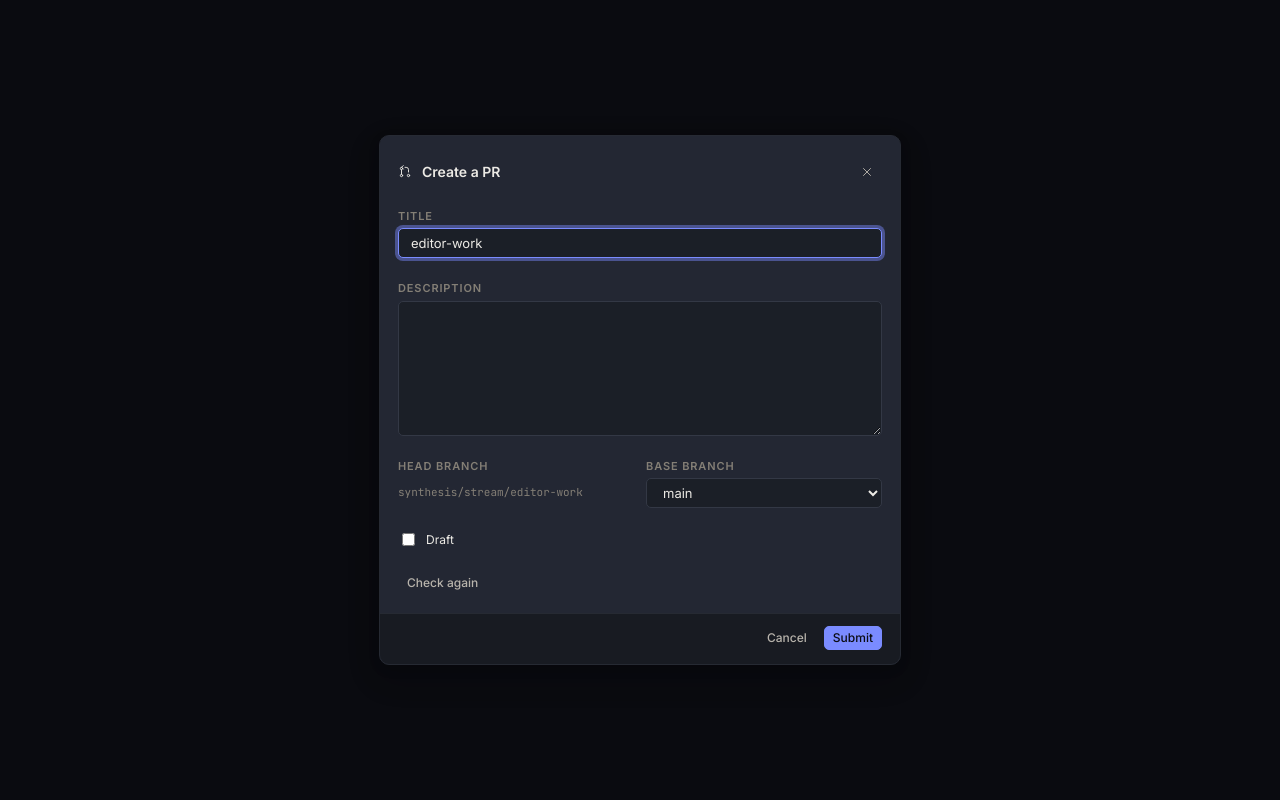
Test: failures (CPR-FR-SQEP, CPR-FR-VZUZ, CPR-FR-FGGU, CPR-FR-VZNE) › CPR-FR-SQEP, CPR-FR-VZNE: a failure shows inline, keeps the author's input and the window open
Type "my words" into the text box labelled "Description" at [640, 368], box [398, 301, 882, 436]
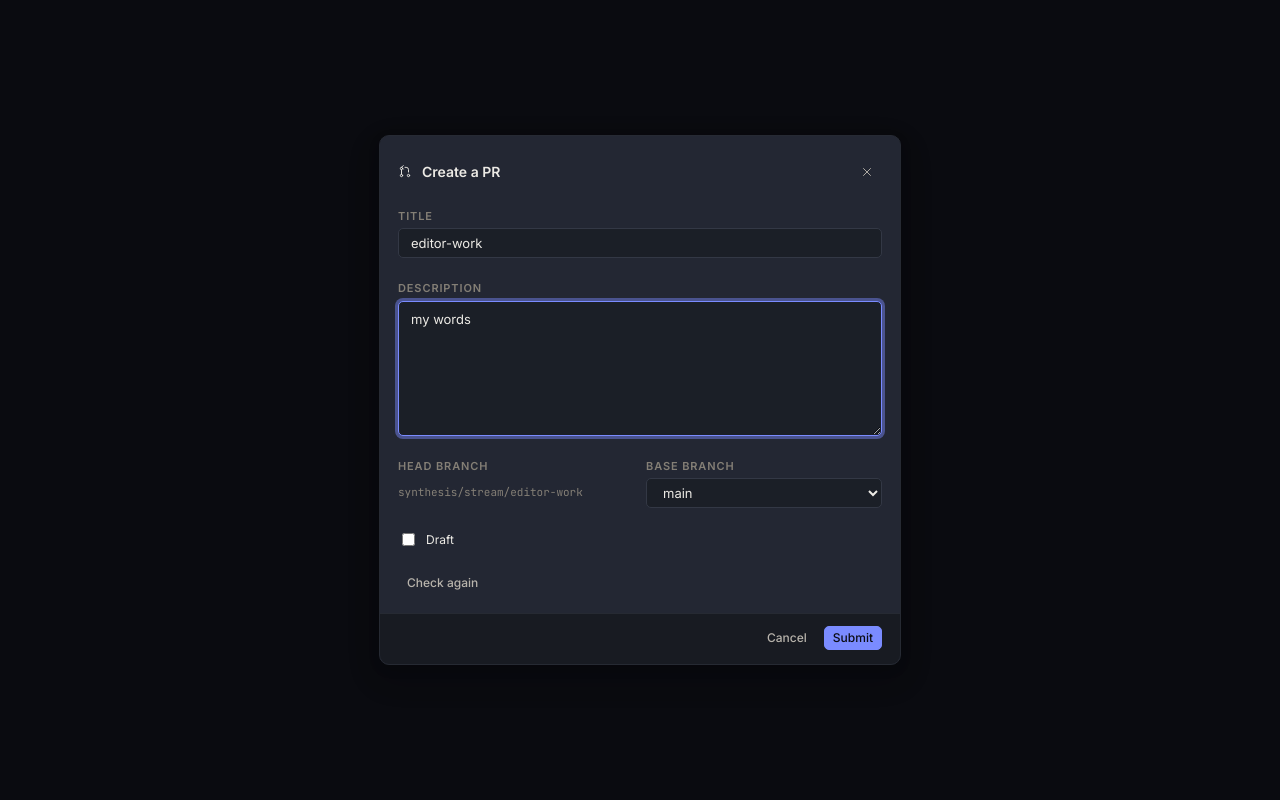
Select "develop" in the dropdown with test id "create-pr-base" at [764, 493], box [646, 478, 882, 508]
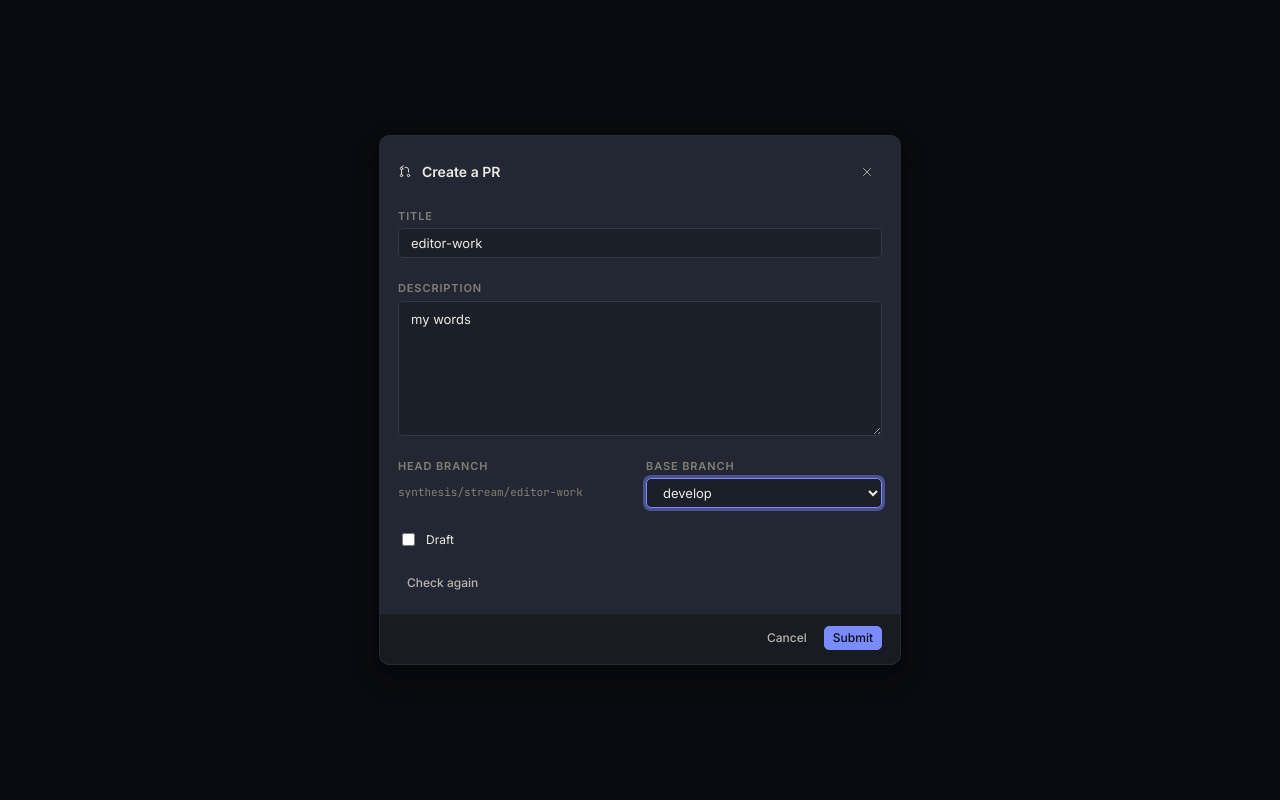
Click the checkbox labelled "Draft" at [408, 540], box [402, 533, 415, 546]
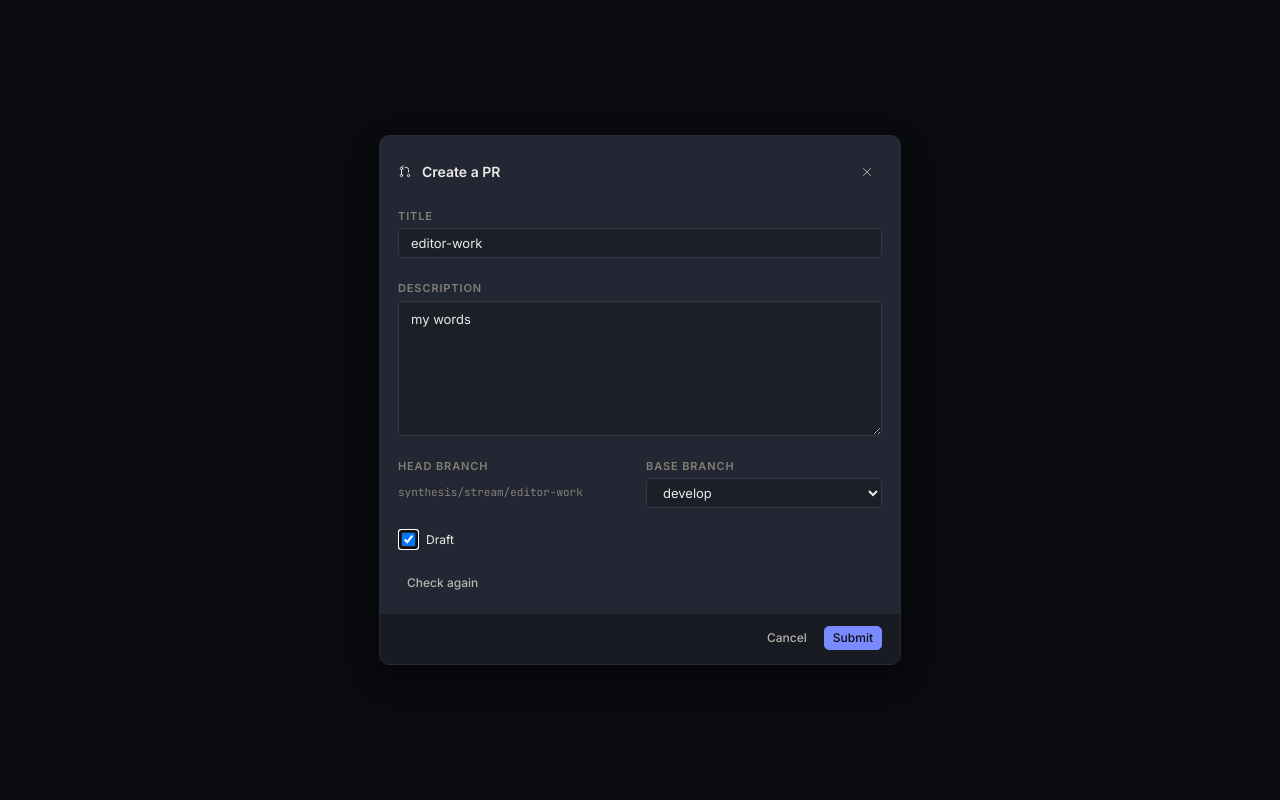
Click the button with test id "create-pr-submit" at [853, 638], box [824, 626, 882, 650]
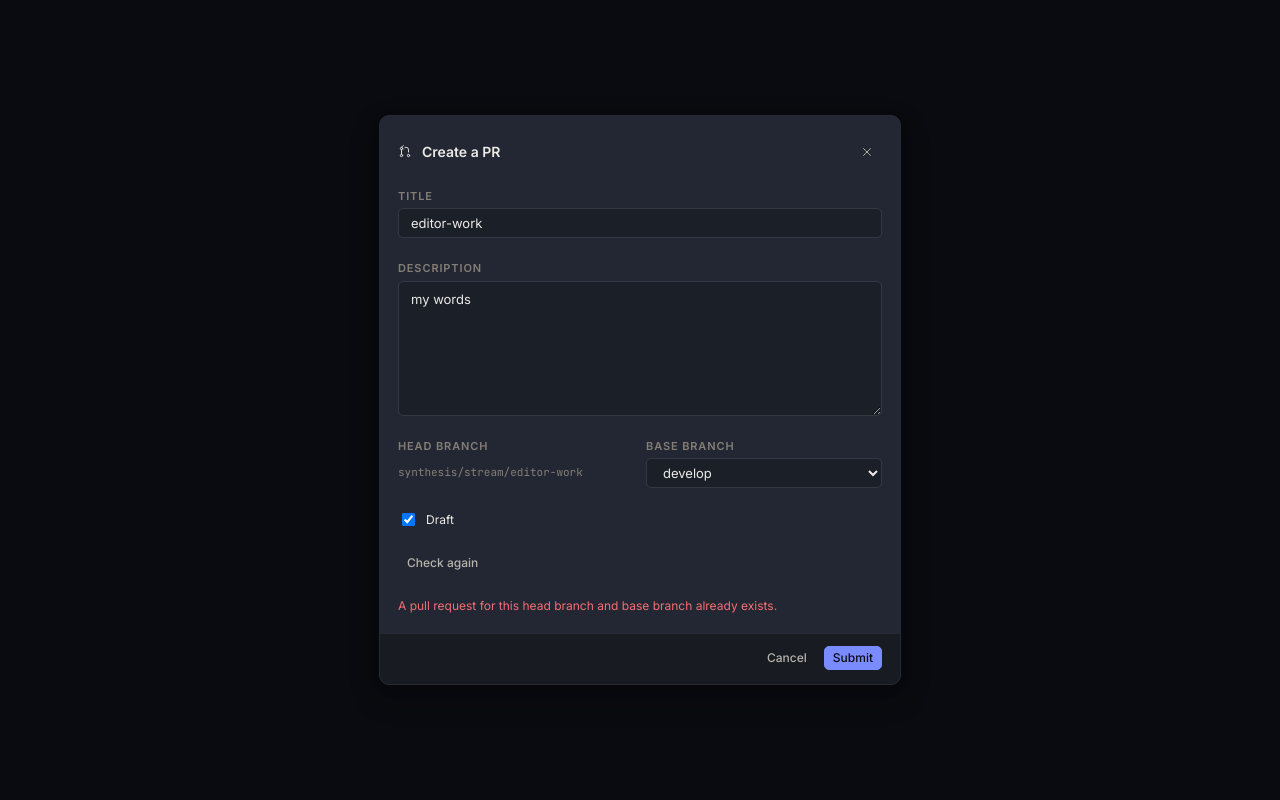
Expected: the field labelled "Title" holds "editor-work", [398, 208, 882, 238]
Expected: the checkbox labelled "Draft" is checked, [402, 513, 415, 526]
Expected: the message with test id "create-pr-failure" reads "A pull request for this head branch and base branch already exists.", [398, 598, 777, 613]
